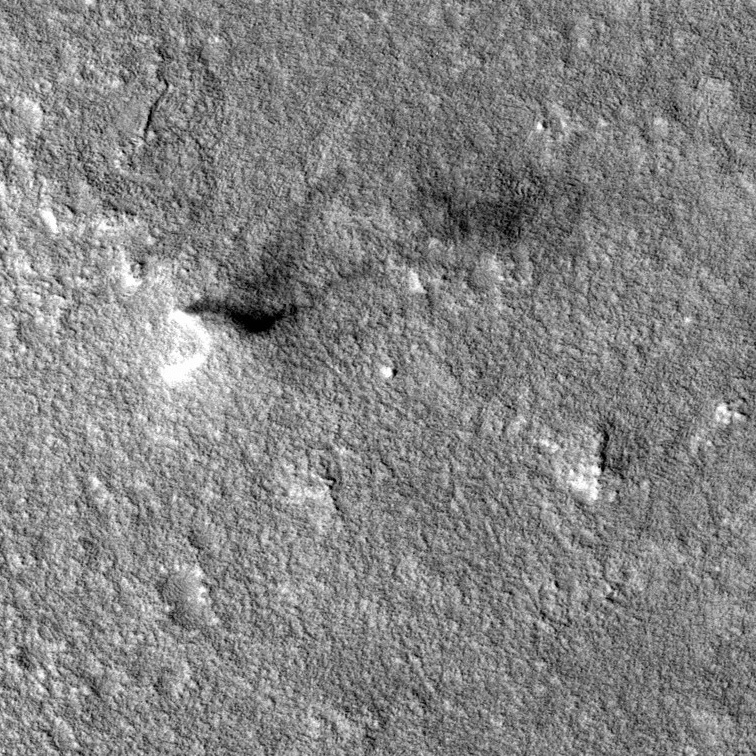dust_devil: (155, 257, 326, 393)
